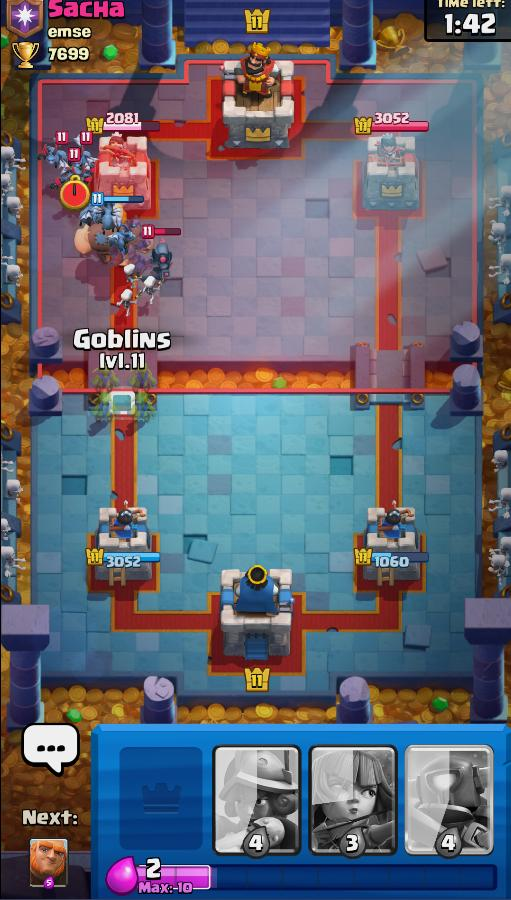archere: (131, 235, 151, 253), (123, 213, 142, 231)
gargouille: (39, 141, 69, 166), (72, 142, 98, 170), (109, 229, 136, 255), (98, 205, 122, 232), (122, 261, 141, 292), (59, 168, 91, 185), (75, 201, 98, 224)
geant: (72, 222, 112, 264), (133, 259, 149, 273)
mini_PEKKA: (152, 241, 173, 279)
squelette: (116, 291, 140, 319), (141, 276, 160, 306)
